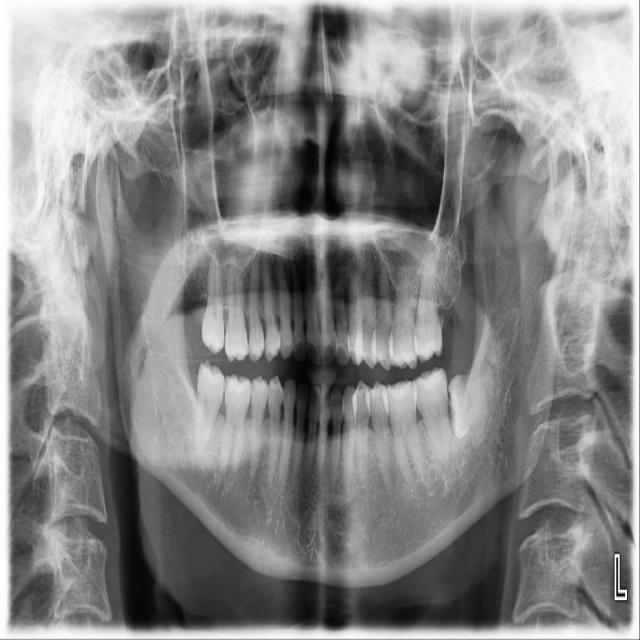impacted tooth: (447, 364, 501, 438)
